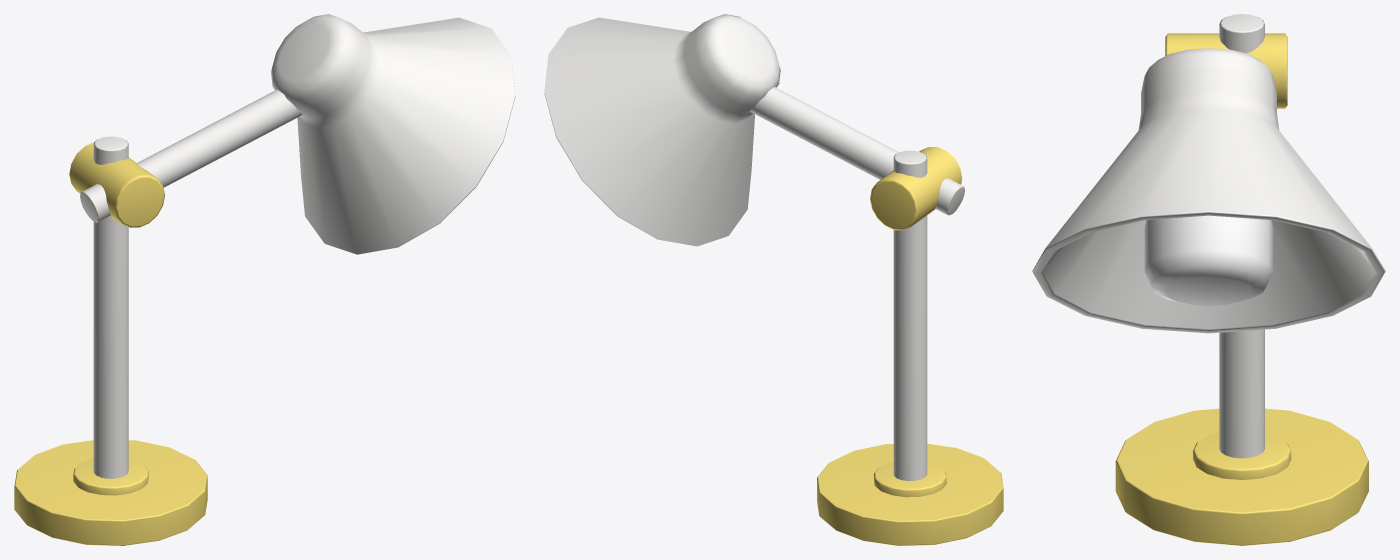
The model's file is Lamp_5.glb.
3 renders of one model, left to right at view 1: azimuth 30°, elevation 25°; view 2: azimuth 150°, elevation 25°; view 3: azimuth 270°, elevation 25°, orthographic. The views are drawn at different scales.
Visible parts, largest first — view 1: Lamp_4; view 2: Lamp_4; view 3: Lamp_4.
Part boxes in pixels (box(x1,y1,x2,y2)): Lamp_4: box(14, 14, 515, 545); Lamp_4: box(544, 14, 1003, 545); Lamp_4: box(1032, 14, 1385, 545).
Size of the model in its own units: 0.7405 by 0.6946 by 0.386.
2 materials, 1 textured.
